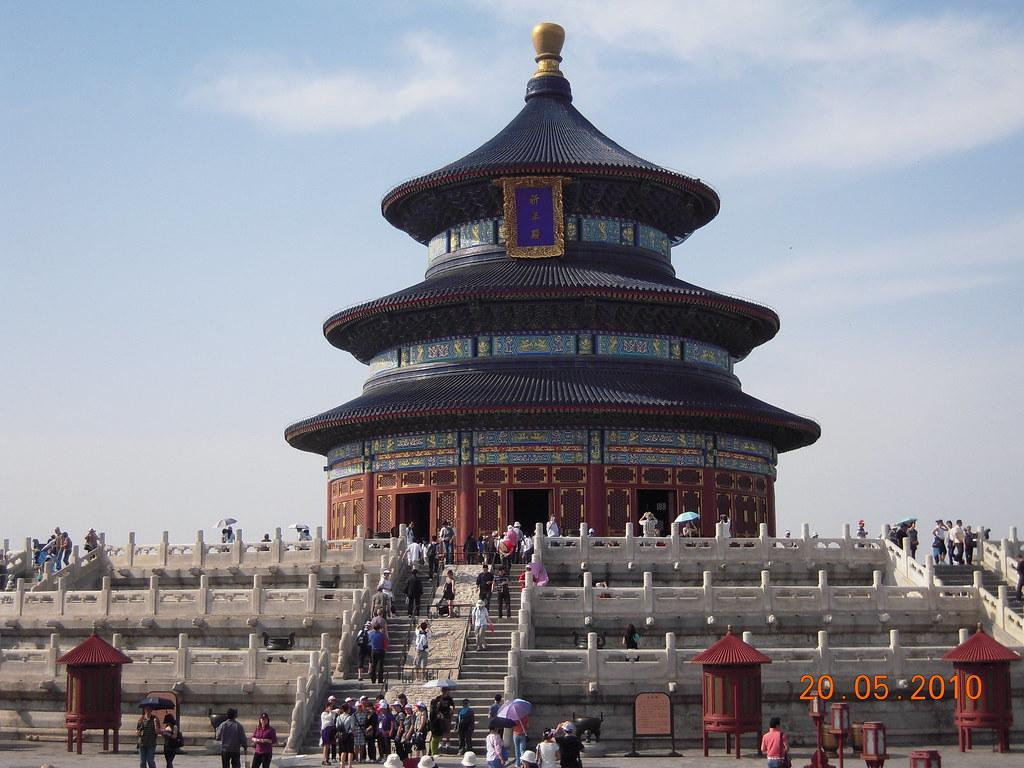temple: (283, 20, 823, 558)
